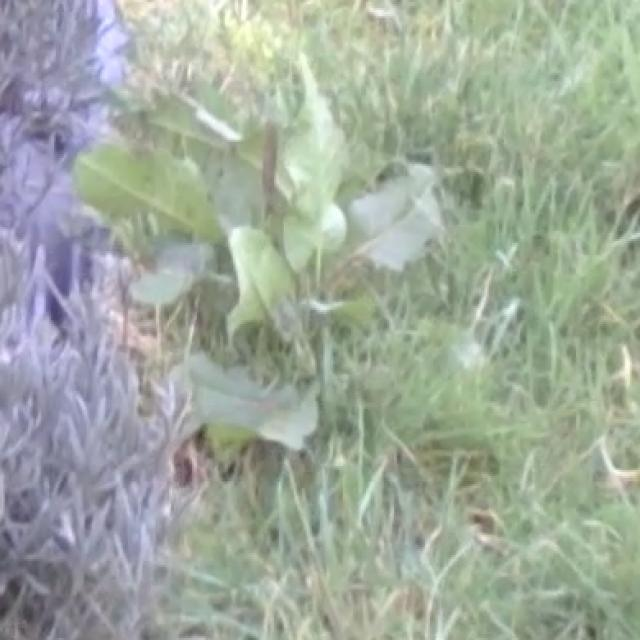organic waste: (77, 39, 460, 486)
